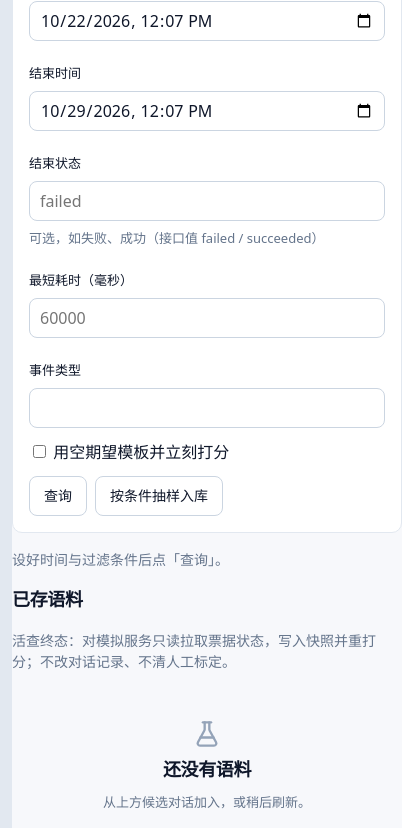
it: EvalSettings › queries runs when filter submitted
(page scrolled)
Click the button with test id "eval-query": (58, 496) [29,476,87,516]
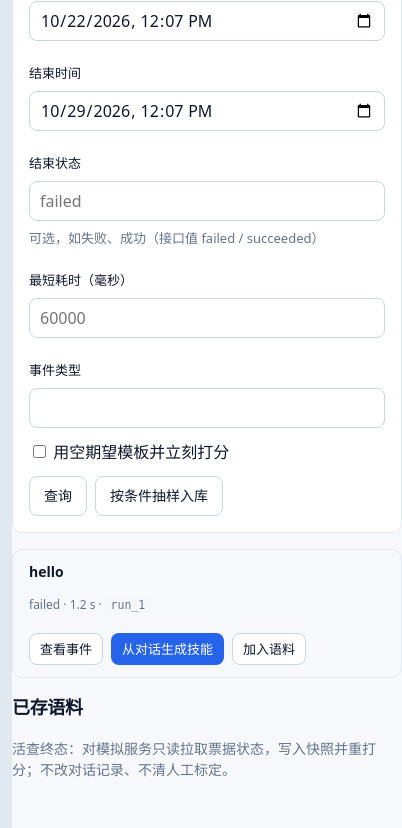
Result: the text "run_1" is shown at [105,596,151,614]
